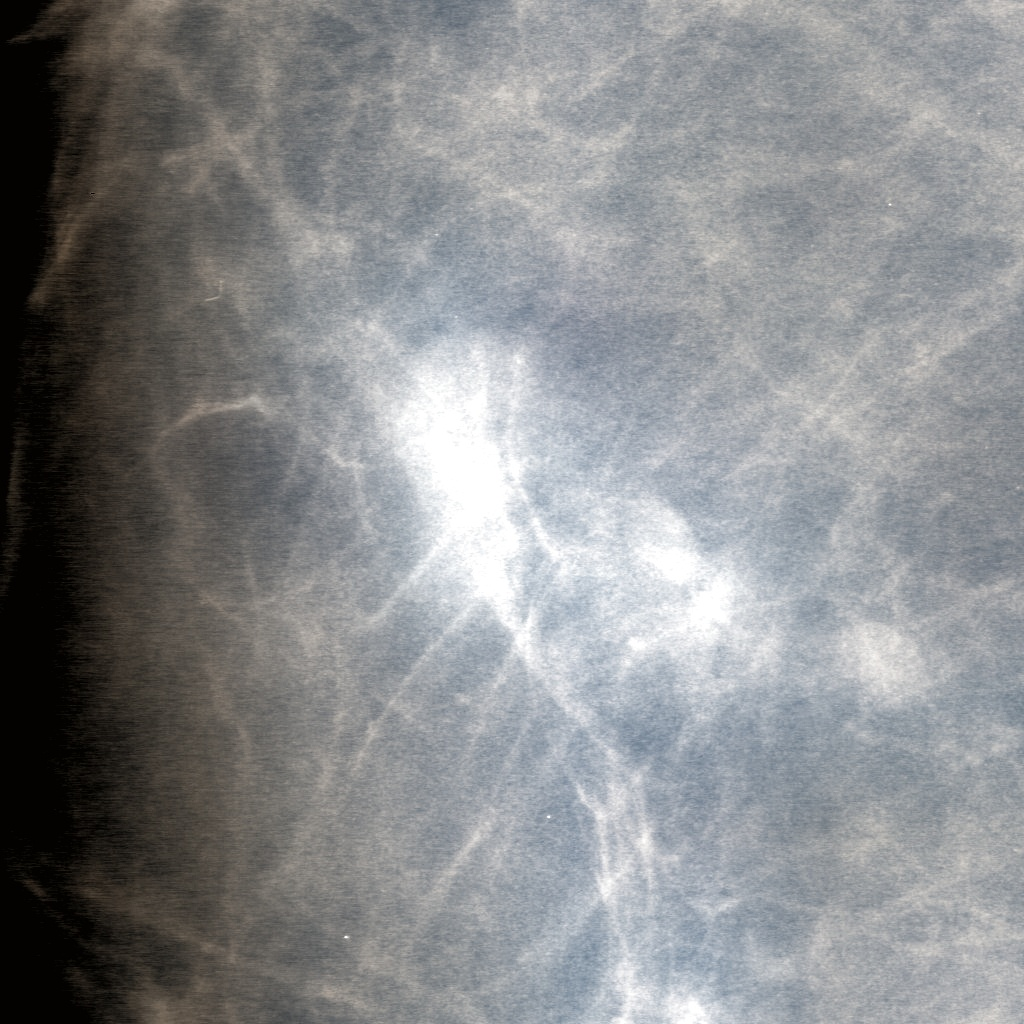tumor: (354, 329, 670, 695)
